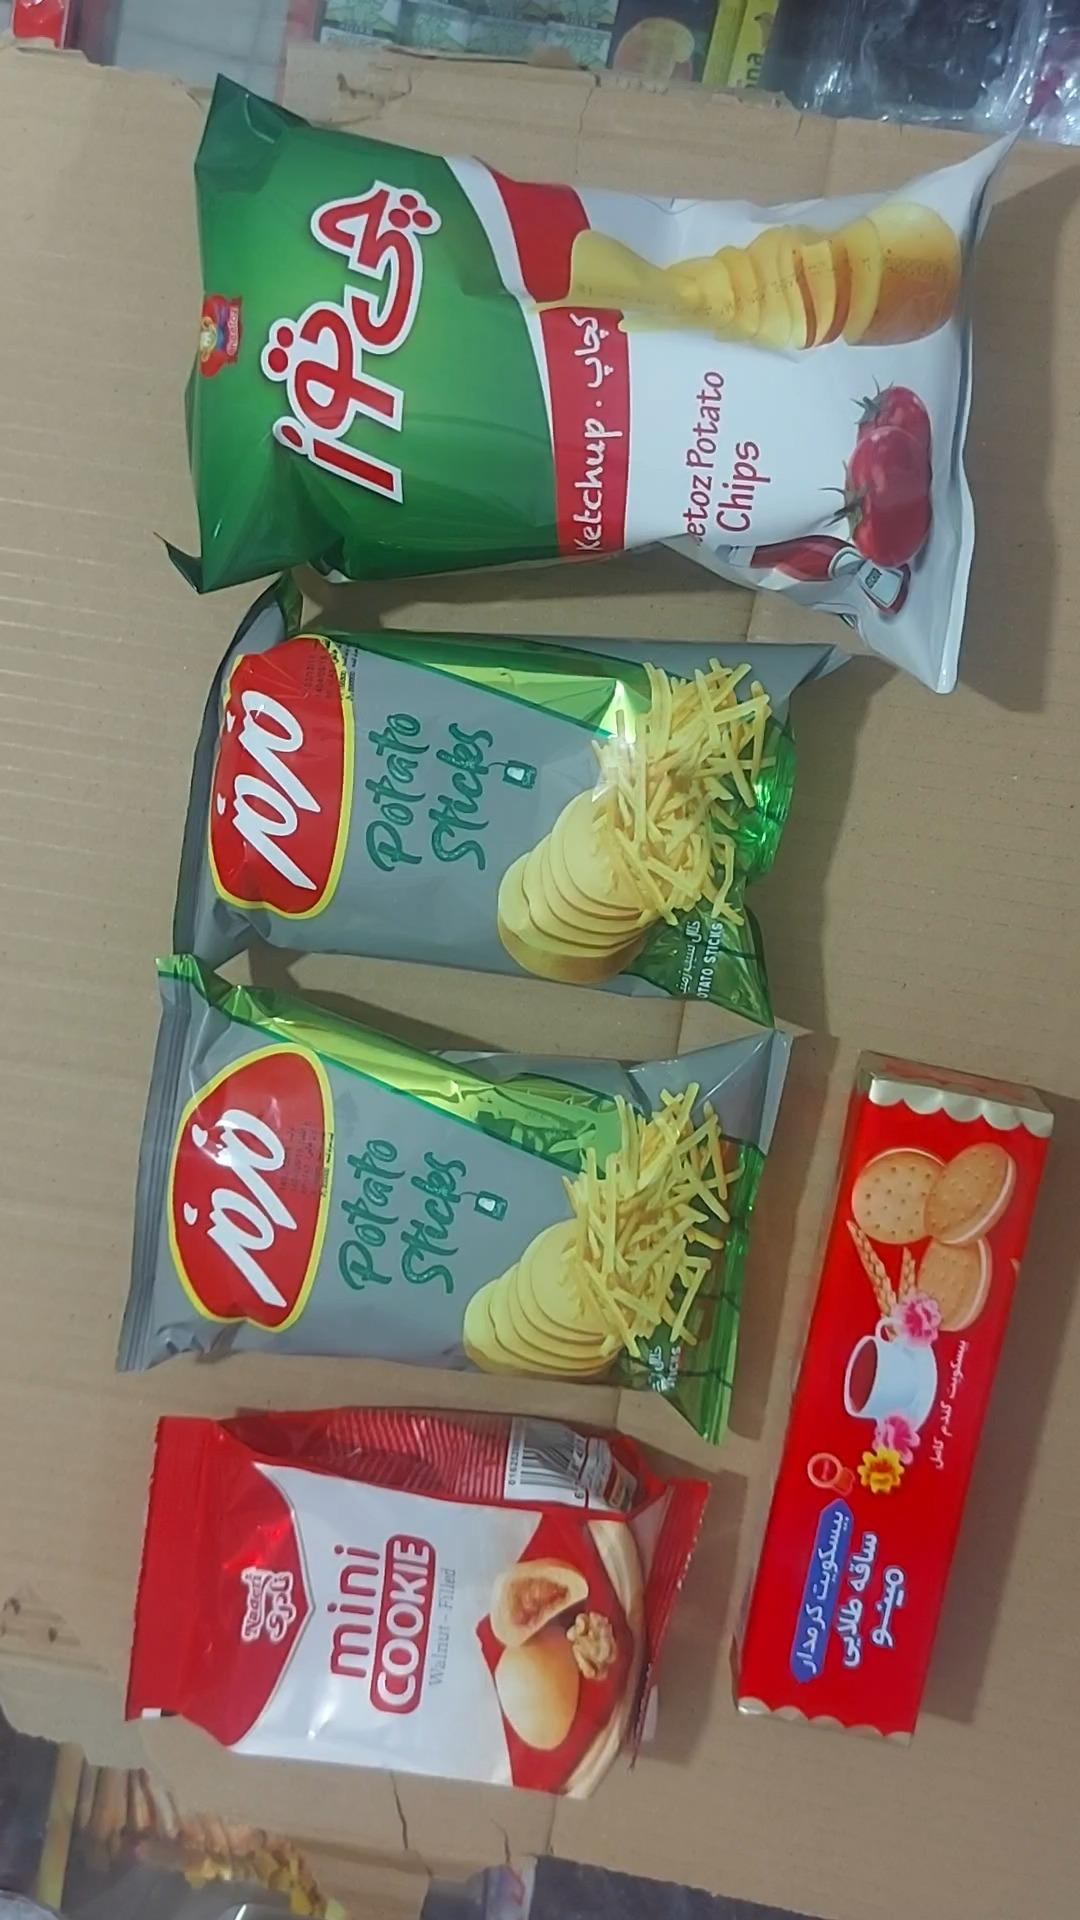Cheetoz ketchup chips: (160, 78, 1015, 698)
Maz Maz potato sticks: (117, 953, 795, 1447), (175, 570, 852, 1029)
Minoo cream biscuit: (736, 1051, 1055, 1742)
Naderi mini cookie: (125, 1408, 712, 1801)
